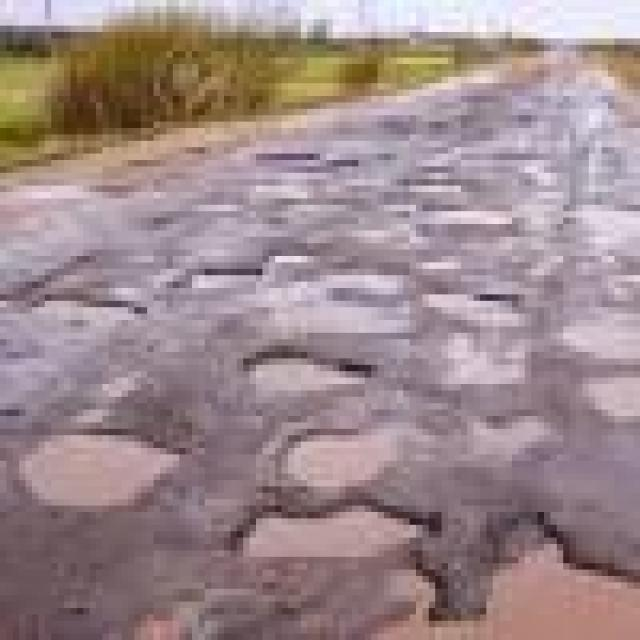Pothole: (493, 563, 640, 640), (26, 435, 173, 506), (563, 314, 640, 422), (243, 512, 403, 557), (435, 294, 506, 384), (288, 435, 390, 486), (314, 301, 410, 333), (256, 358, 346, 390), (474, 422, 525, 461), (45, 294, 141, 314), (198, 269, 250, 282)
